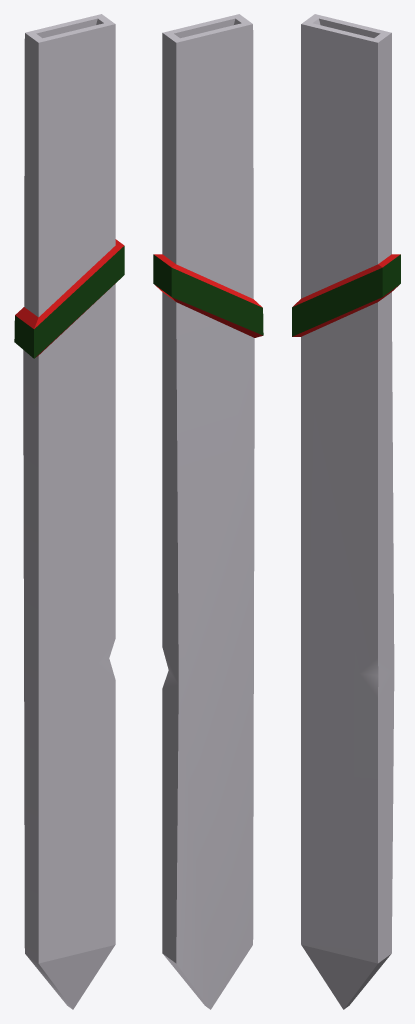
Rendered from PT_Sheath_01_a.glb.
The picture shows the model from 3 angles, left to right: view 1: azimuth 30°, elevation 25°; view 2: azimuth 210°, elevation 25°; view 3: azimuth 330°, elevation 25°; orthographic projection.
Parts seen in each view (by area): view 1: PT_Sheath_01_a; view 2: PT_Sheath_01_a; view 3: PT_Sheath_01_a.
Part boxes in pixels (bbox=[...]): PT_Sheath_01_a: bbox=[14, 14, 124, 1009]; PT_Sheath_01_a: bbox=[153, 14, 263, 1009]; PT_Sheath_01_a: bbox=[292, 14, 400, 1009].
Size of the model in its own units: 0.0562 by 0.5814 by 0.0213.
1 material, 1 textured.
